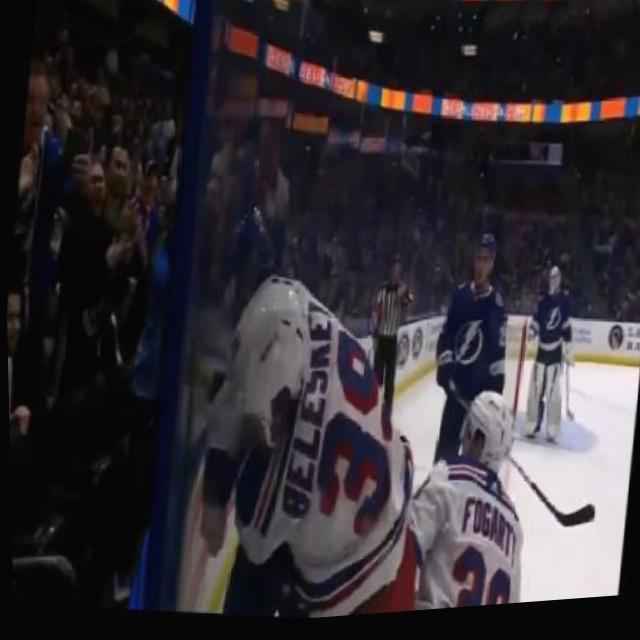fight: (177, 261, 441, 630)
